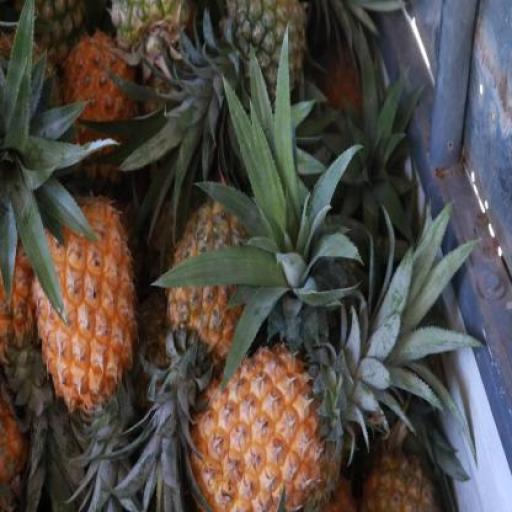Pineapple - v8 v1: (33, 192, 145, 418), (183, 335, 324, 512)
